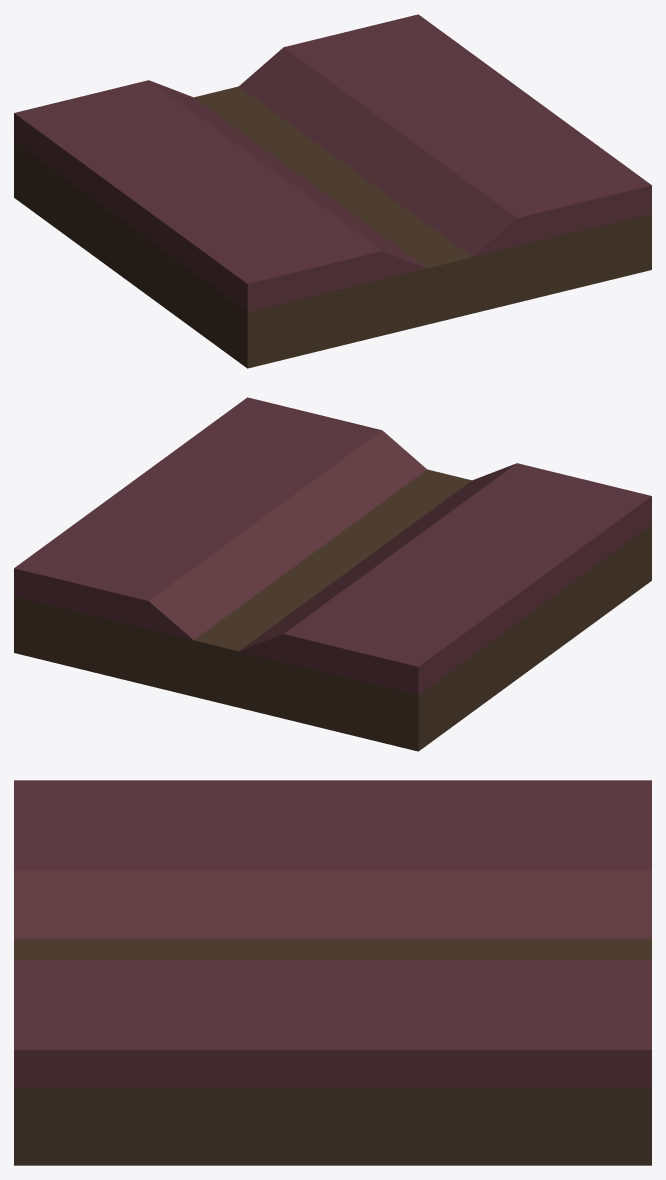
File: tiles-tile-river-basin.glb
3 views of the same model, one above another, from view 1: azimuth 30°, elevation 25°; view 2: azimuth 150°, elevation 25°; view 3: azimuth 270°, elevation 25° (orthographic). The views are drawn at different scales.
Parts seen in each view (by area): view 1: tile-river-basin; view 2: tile-river-basin; view 3: tile-river-basin.
Boxes of the visible parts, x1,y1,x2,y2 form: tile-river-basin: (14,14,651,368); tile-river-basin: (14,397,651,751); tile-river-basin: (14,780,651,1165).
Bounding box in the file's own units: 30 × 6 × 30.
